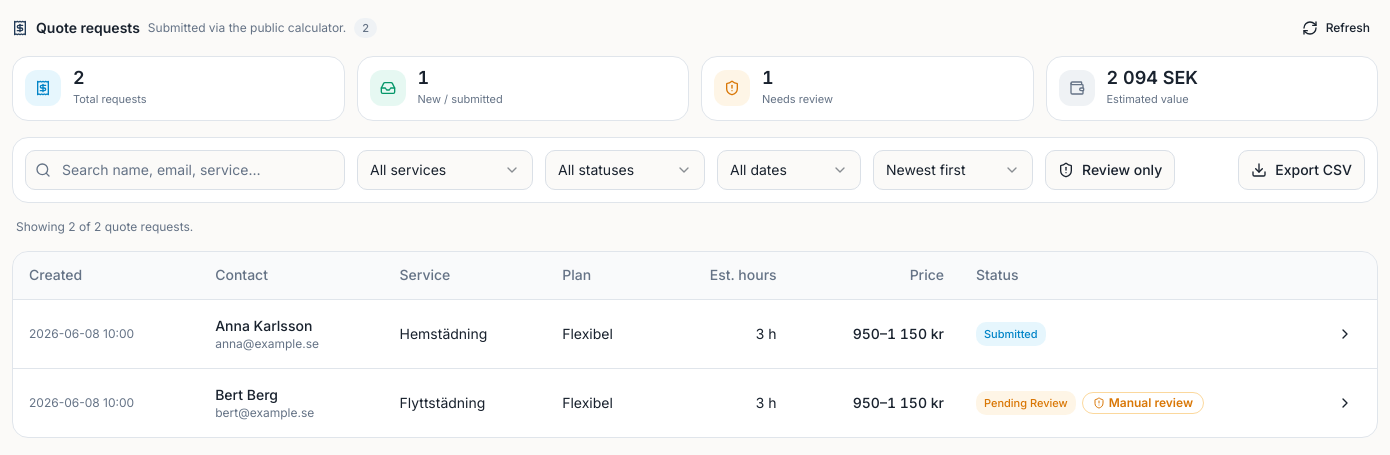
QuoteRequestsInbox toolbar (Slice 12C, Part A) › filters rows by the free-text search
Expected: the text "Anna Karlsson" is shown, [215, 317, 312, 334]
Expected: the text "Bert Berg" is shown, [215, 386, 278, 403]
Type "bert" into the field named "Search quote requests" at coordinates (185, 170), box [25, 150, 345, 190]
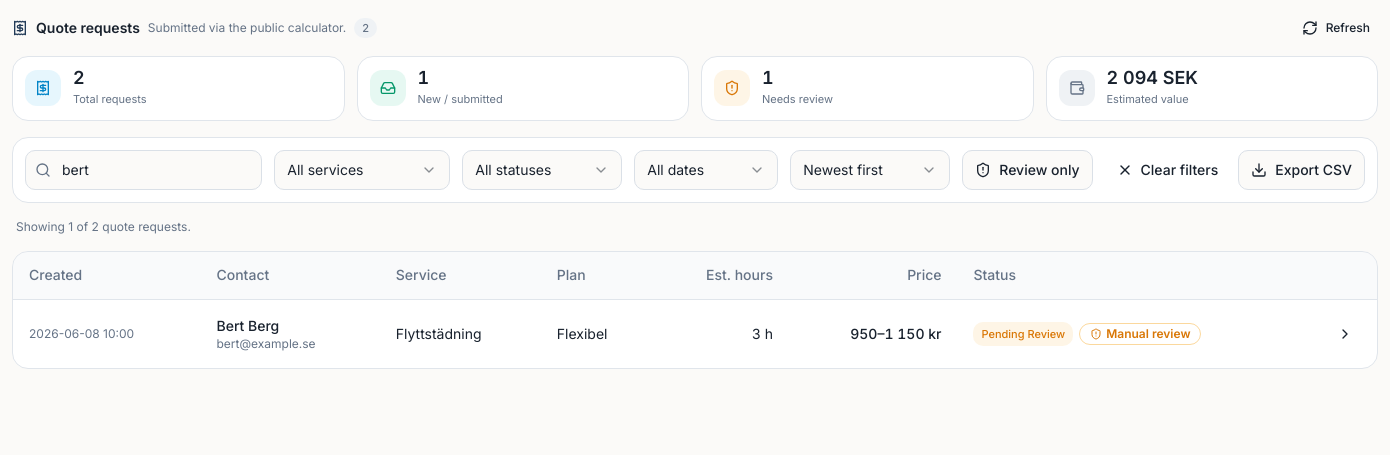
Expected: the text "Bert Berg" is shown, [216, 317, 279, 334]
Expected: the text "Anna Karlsson" is gone
Expected: the text "Showing 1 of 2 quote requests." is shown, [16, 218, 191, 234]
